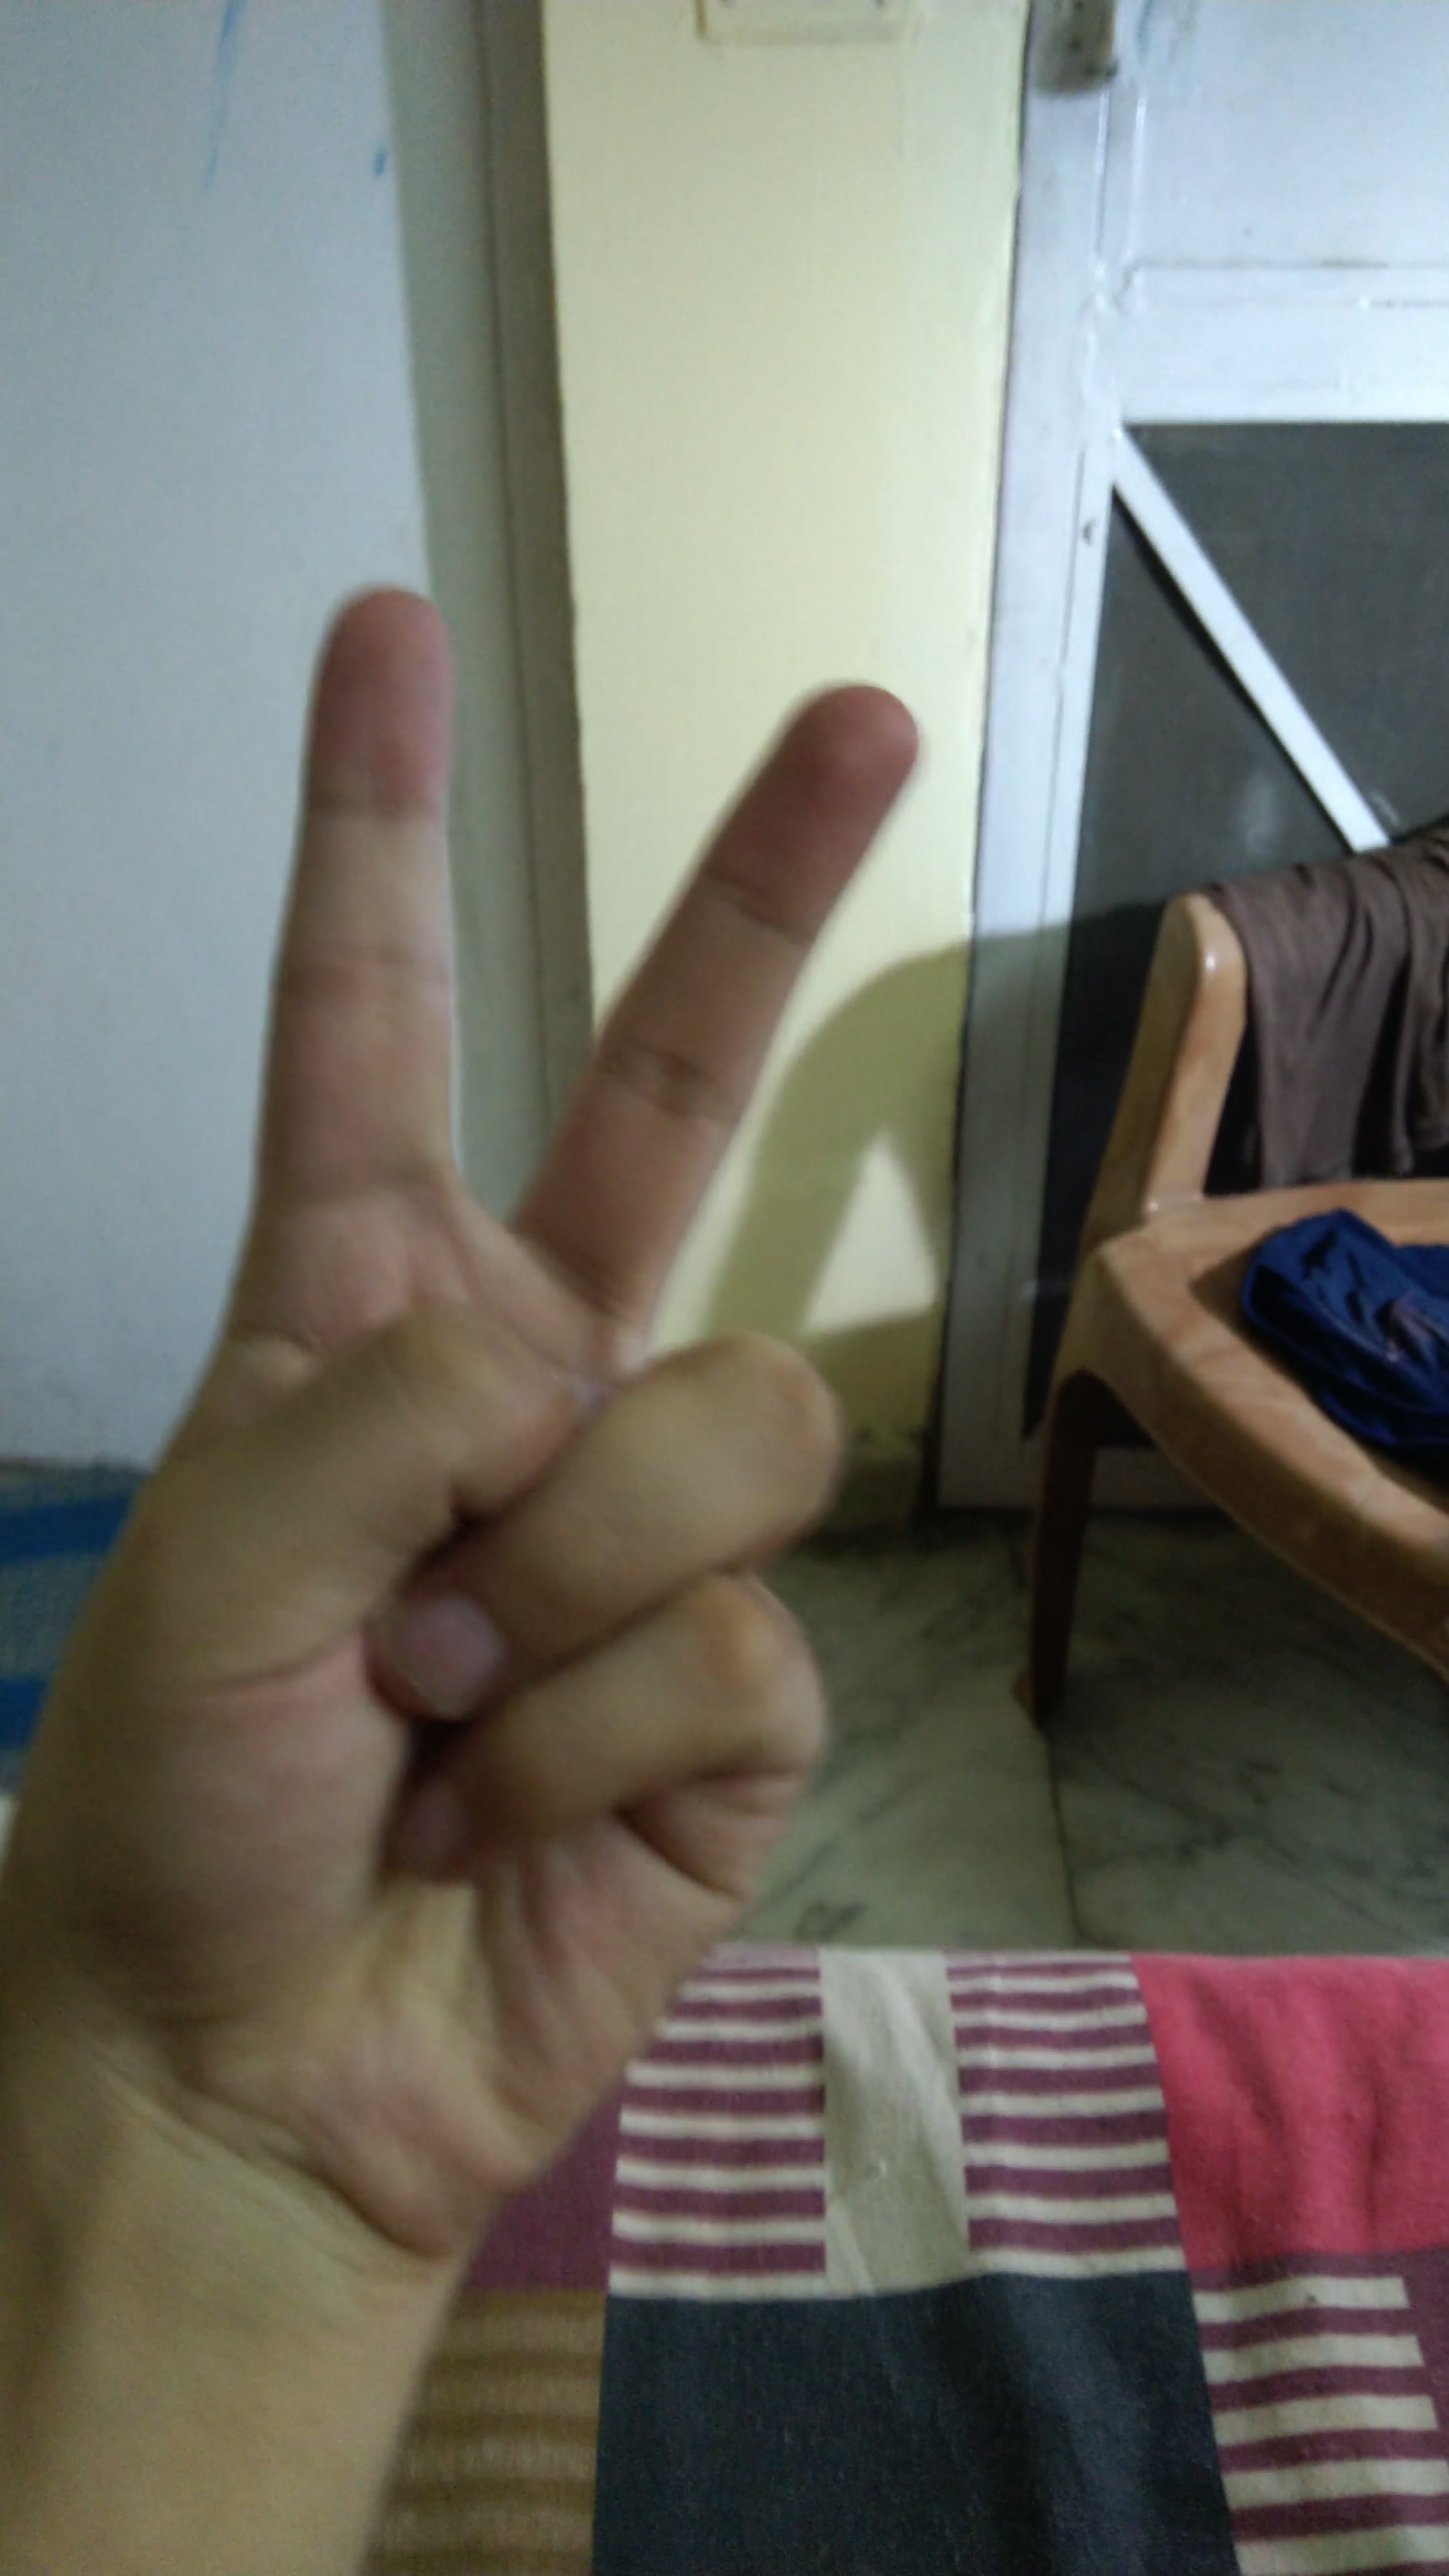hand: (65, 557, 1028, 2266)
